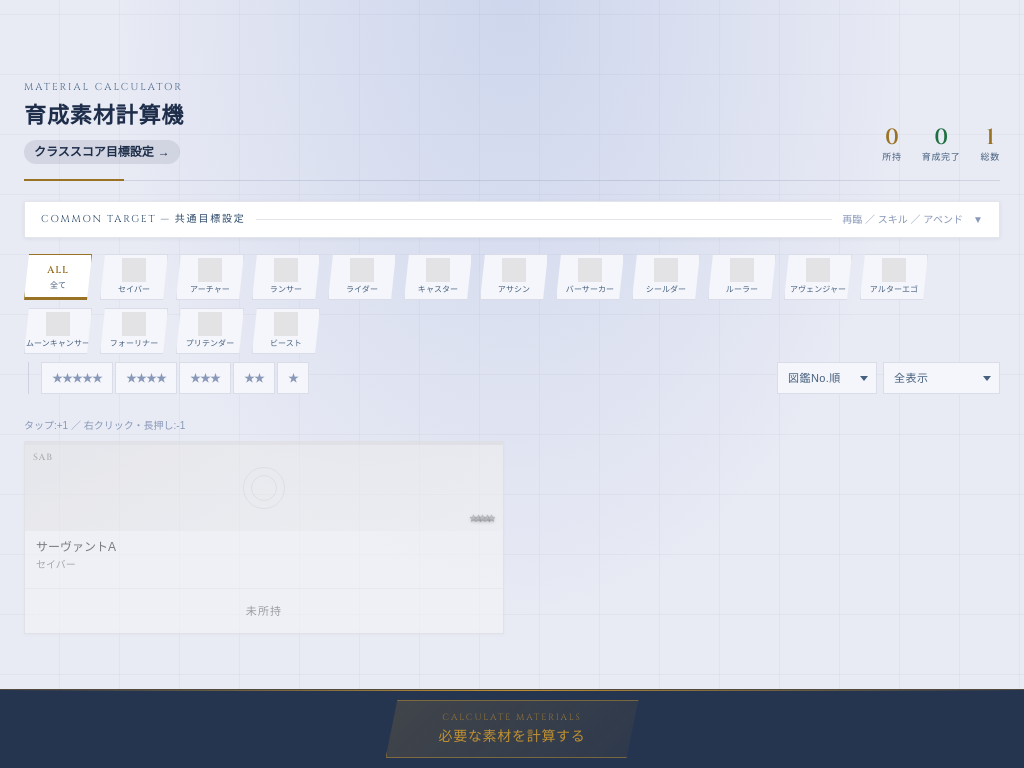
Test: Index - permanent gesture hint › hides the hint in the empty-filter state
Click the button "★" at [293, 378], box [277,362,309,394]
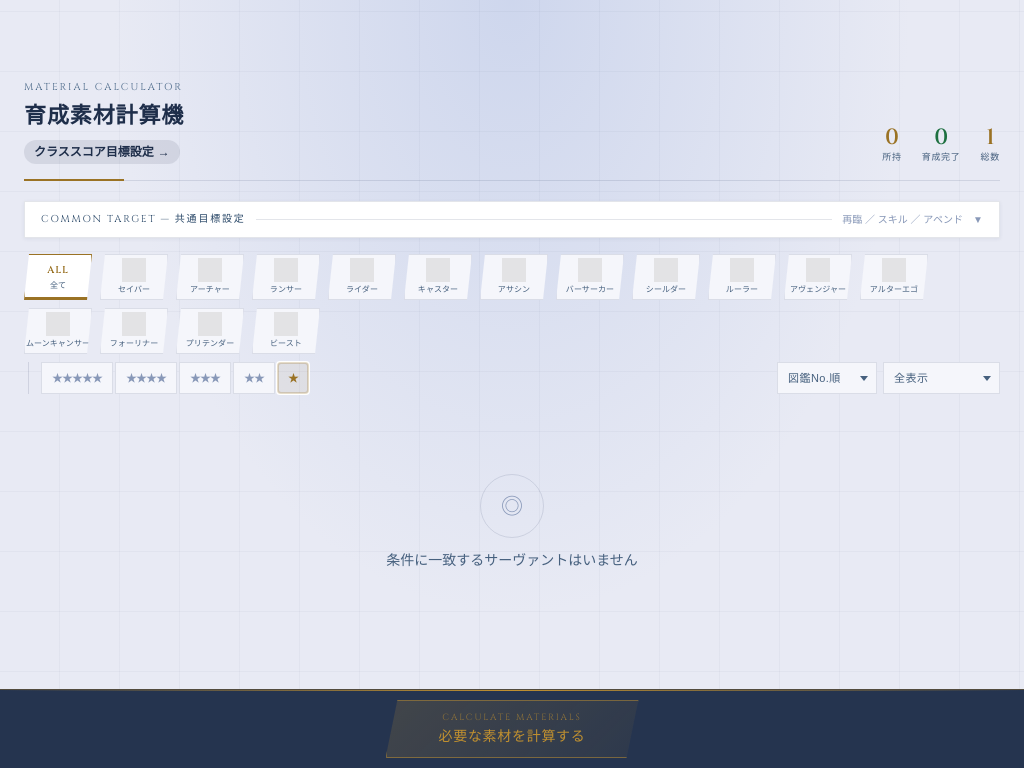
Check: the text "条件に一致するサーヴァントはいません" is shown, box [386,550,638,571]
Check: the text "タップ:+1 ／ 右クリック・長押し:-1" is gone
